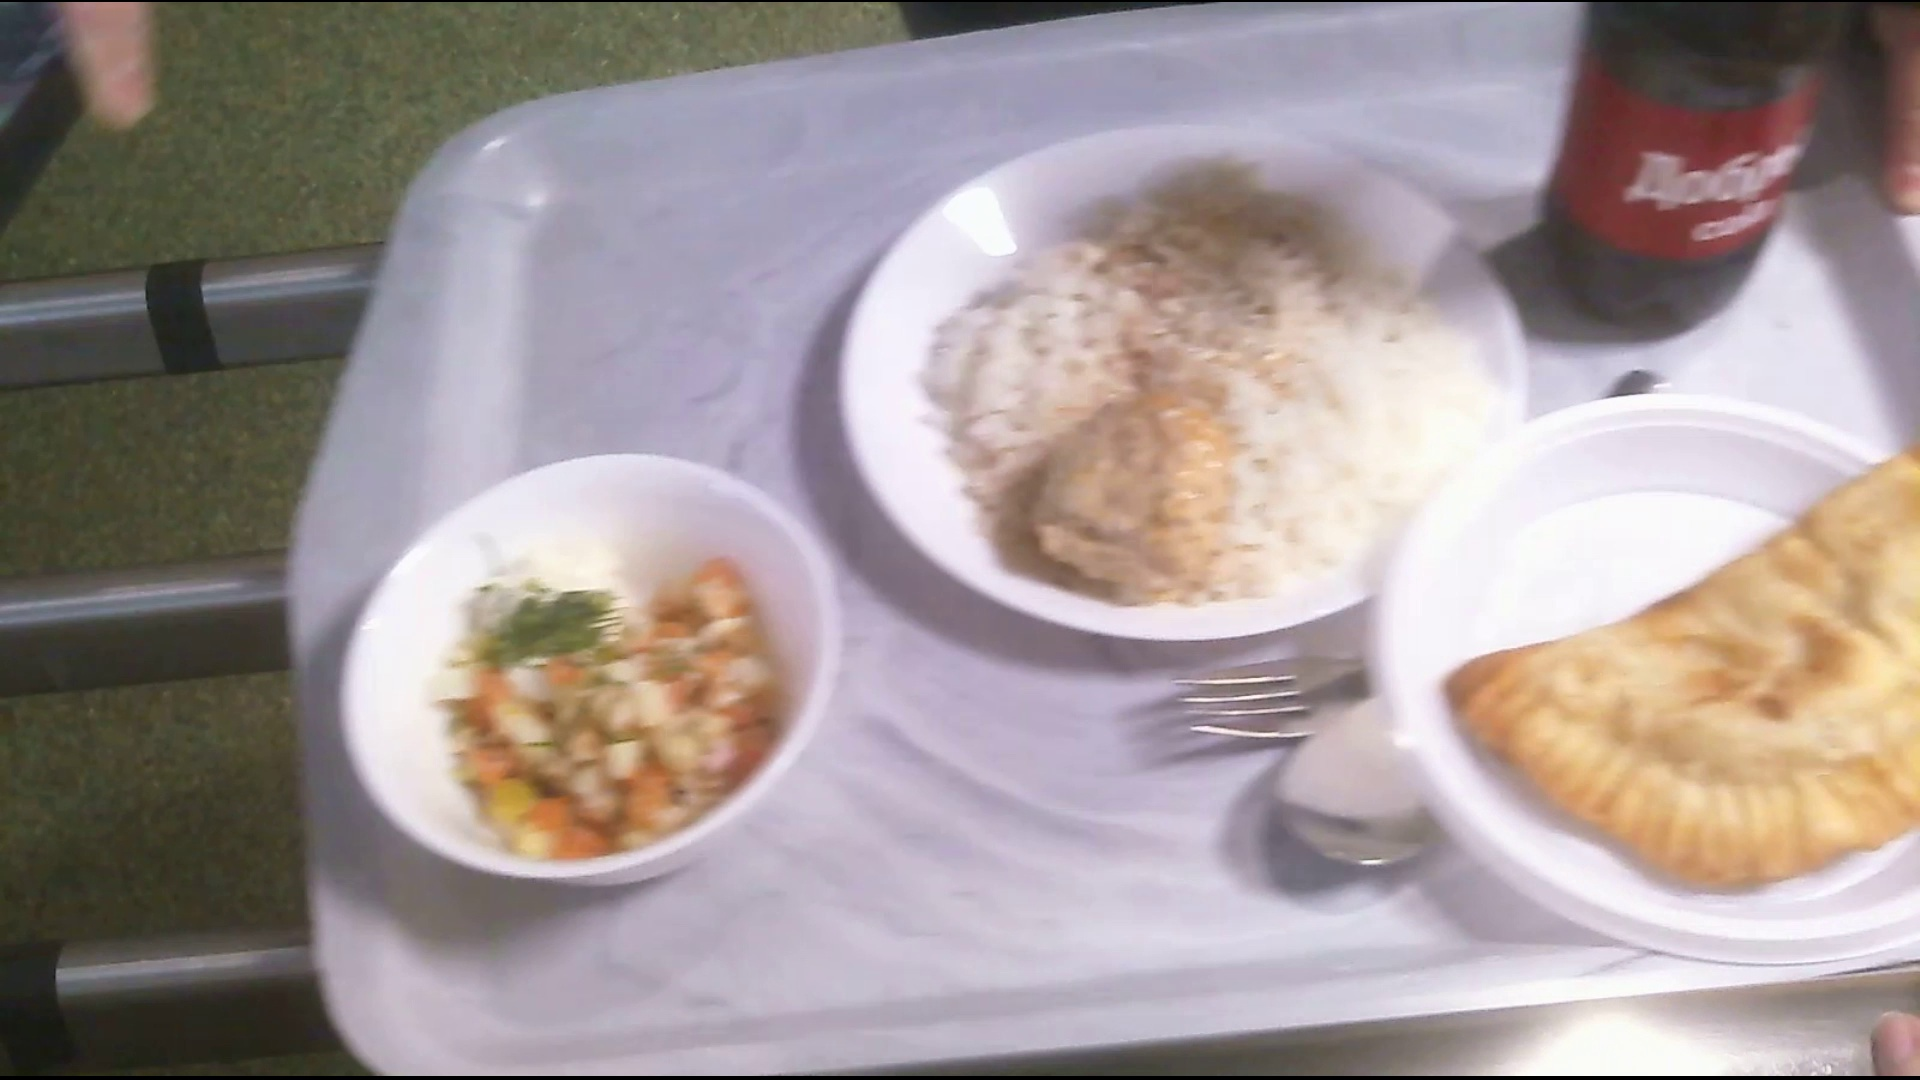bowl: (347, 456, 835, 886)
drink: (1543, 1, 1815, 316)
plate: (822, 144, 1518, 640), (1390, 400, 1920, 957)
